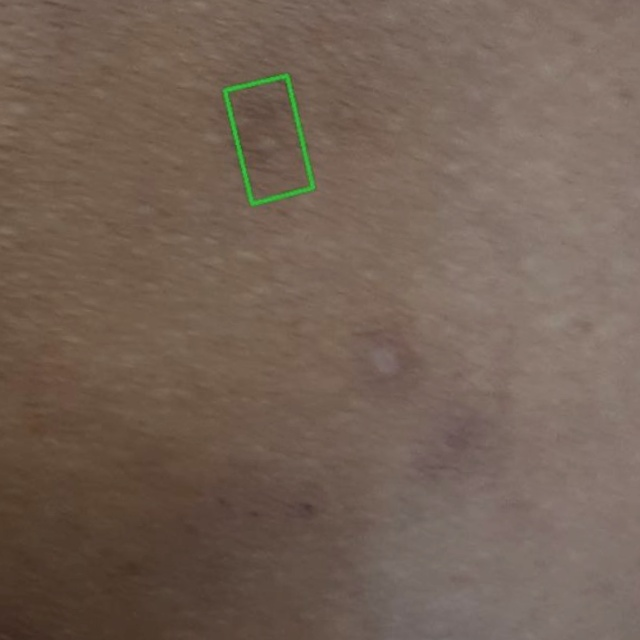Seborrheic Dermatitis: (223, 75, 313, 203)
